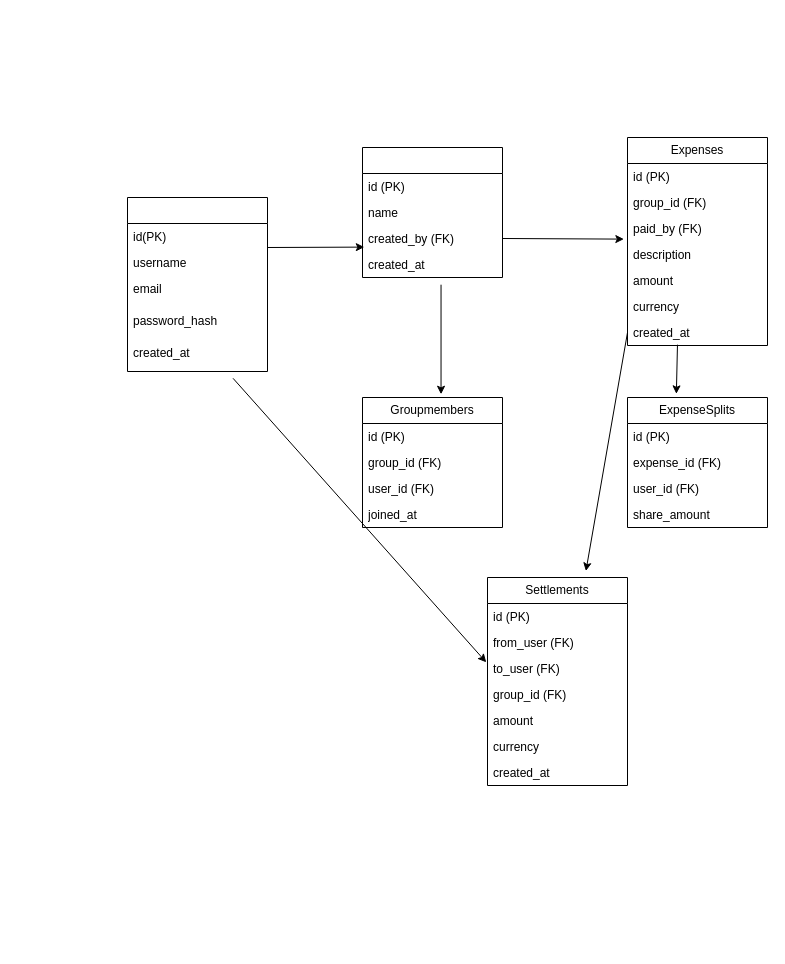
Some shapes in this 785 by 964 pixel diagram are drawn without their labels. The shapes that lost their labels are listed below. From the top down, each one's box as (x1, y1, x2, y2) in pixels, then its label:
(362, 146, 502, 278): Groups
(126, 196, 268, 372): Users
